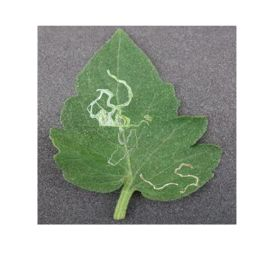liriomyza: (84, 69, 153, 167), (173, 161, 199, 195), (138, 172, 179, 190)
